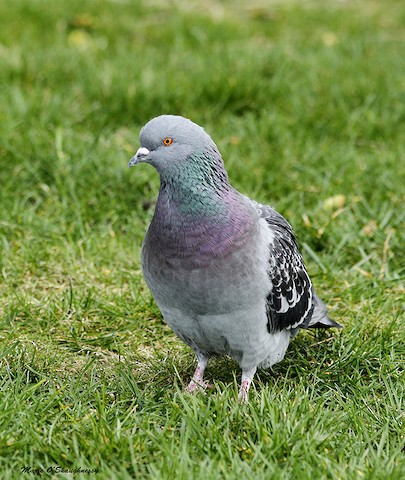pigeon: (122, 110, 346, 417)
